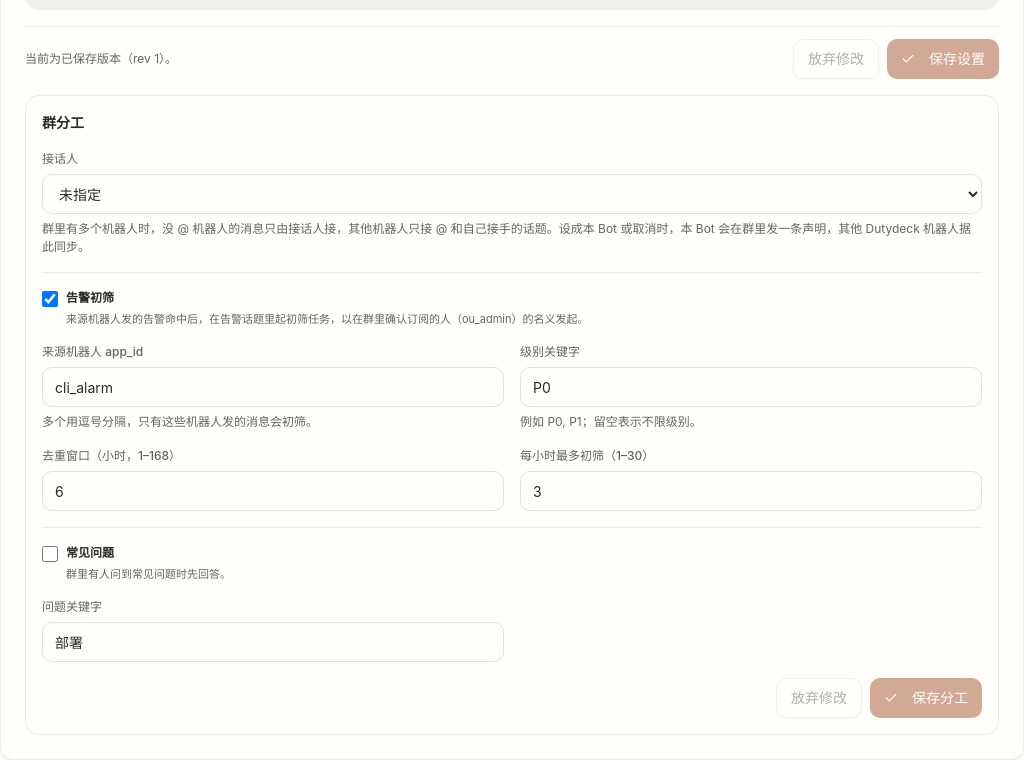
群分工：接话人与场景包 › 数字参数按整数提交，只提交改动的包；保存后重新拉取并显示服务端存下的值
(page scrolled)
Replace the text in the number field labelled "每小时最多初筛（1–30）" with "5": (751, 491) [520,471,982,511]
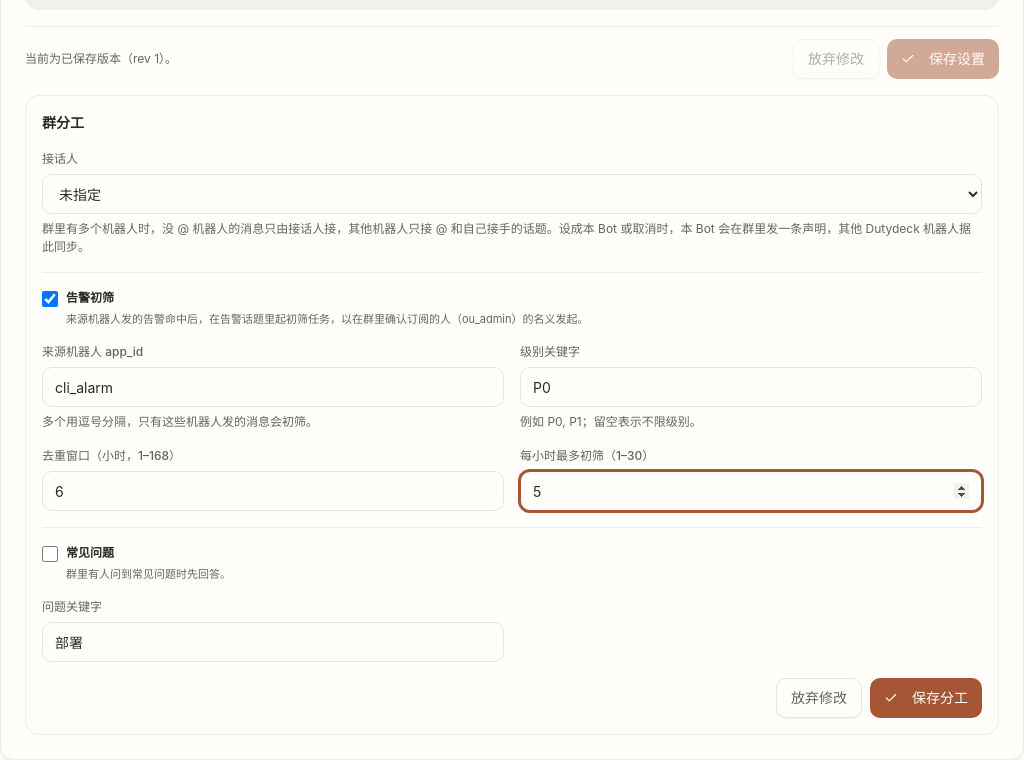
Click the button "保存分工": (926, 698) [870,678,982,718]
(page scrolled)
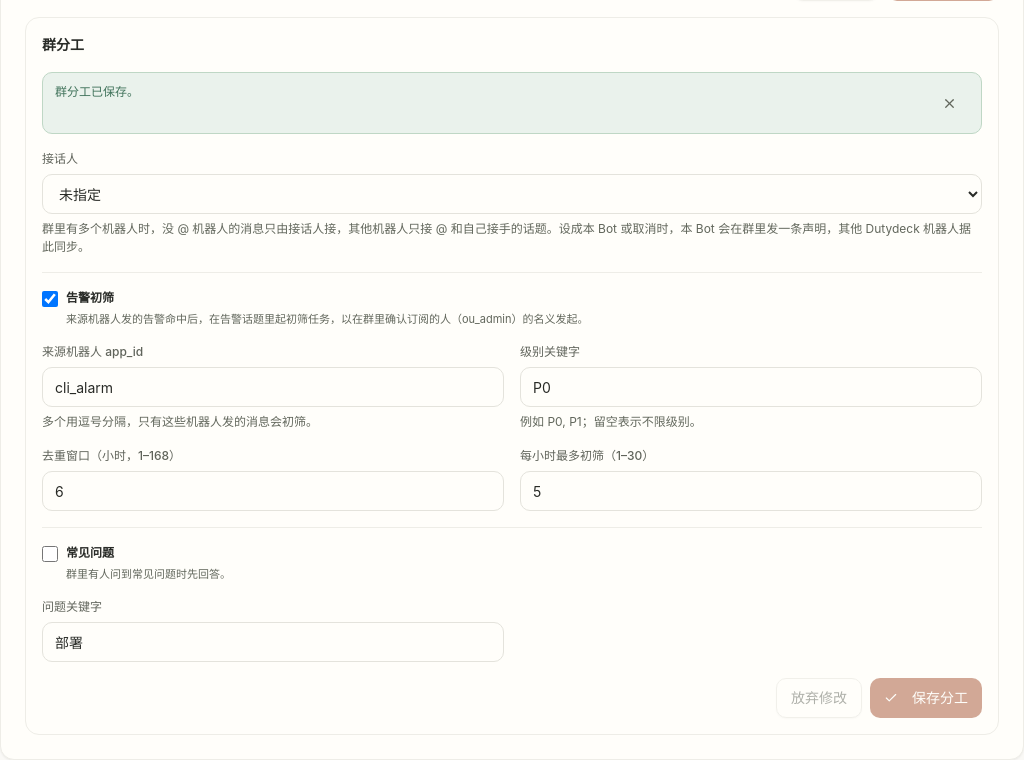
Now the text "群分工已保存。" is shown, box [55,84,139,99]
Now the button "保存分工" is disabled, box [870,678,982,718]
